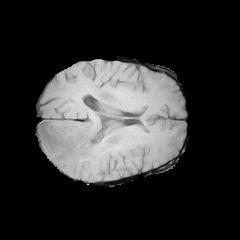glioma: (39, 110, 137, 176)
